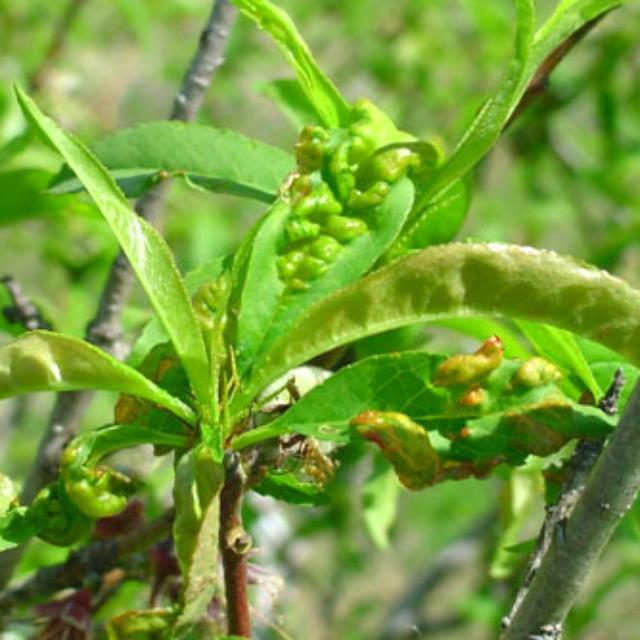leaf_curl: (211, 114, 422, 318), (352, 321, 563, 524), (2, 396, 145, 580)
